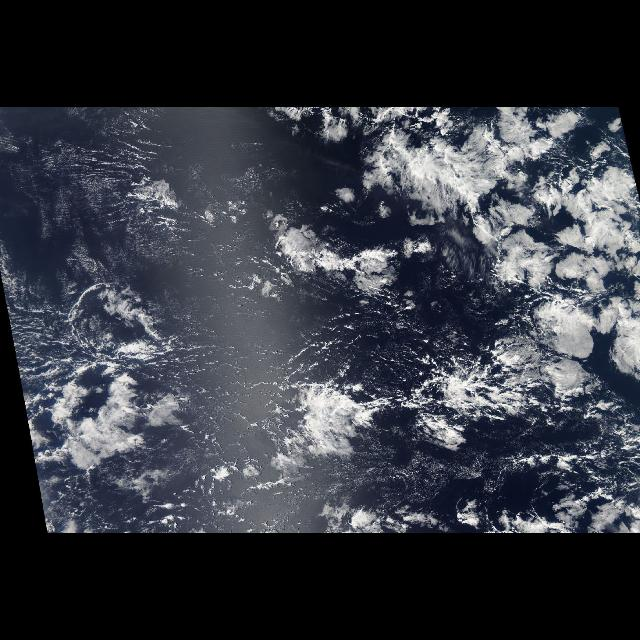Fish: (346, 346, 620, 436)
Flower: (268, 108, 640, 436)
Gravel: (10, 244, 278, 532)
Sugar: (0, 114, 224, 340)
